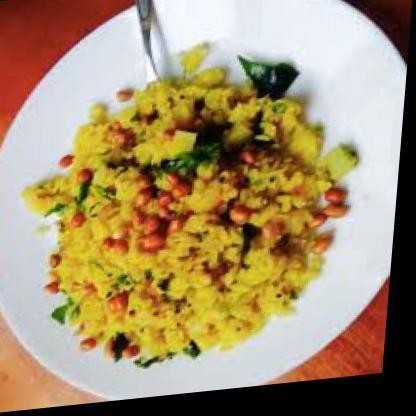poha: (14, 35, 370, 383)
